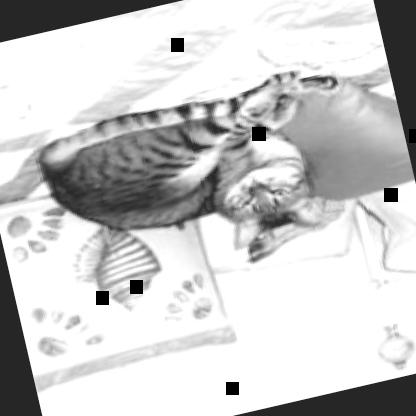cat: (32, 60, 371, 290)
